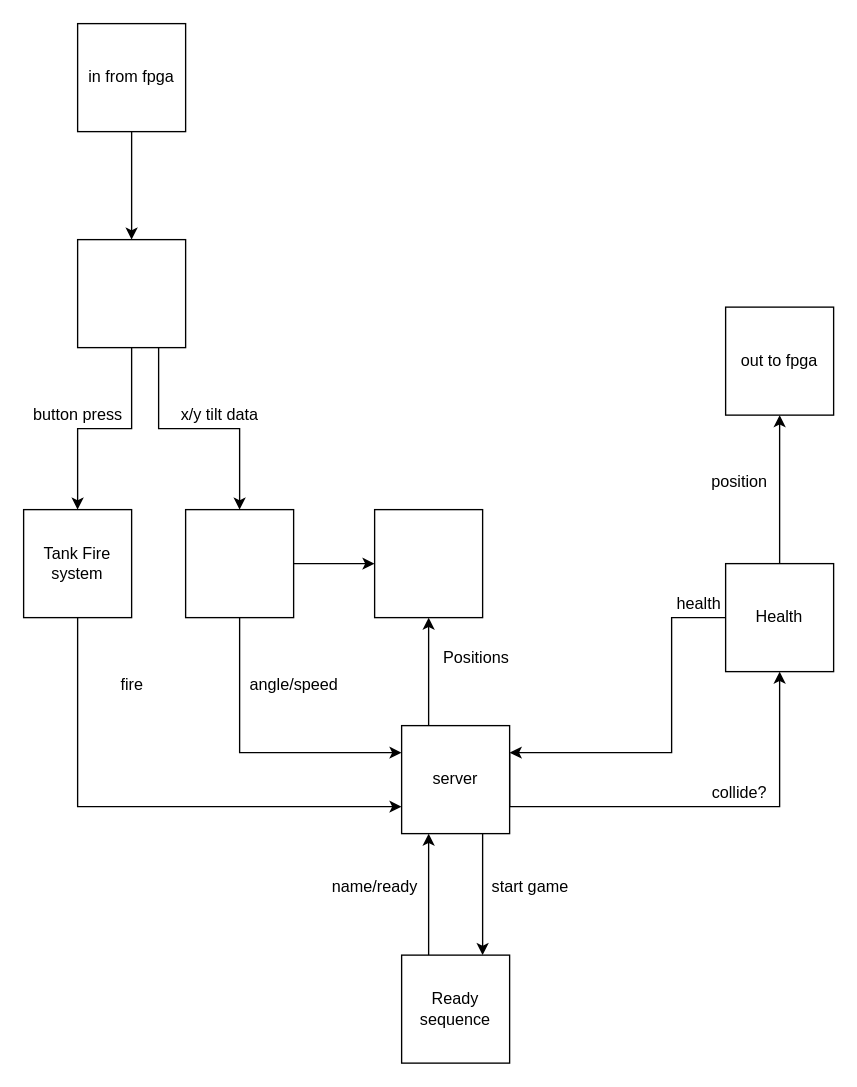
Image size: 857x1087. Some labels were removed from this diagram. Each missing label, with the centre of its shape:
"Data File" goes at [131,293].
"Draw and Display" goes at [428,563].
"Tank movement system" goes at [239,563].
